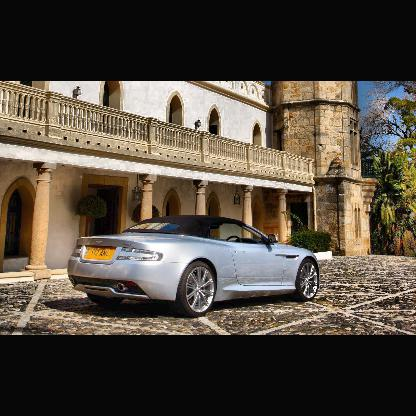Aston Martin Virage Convertible 2012: (67, 214, 321, 318)
